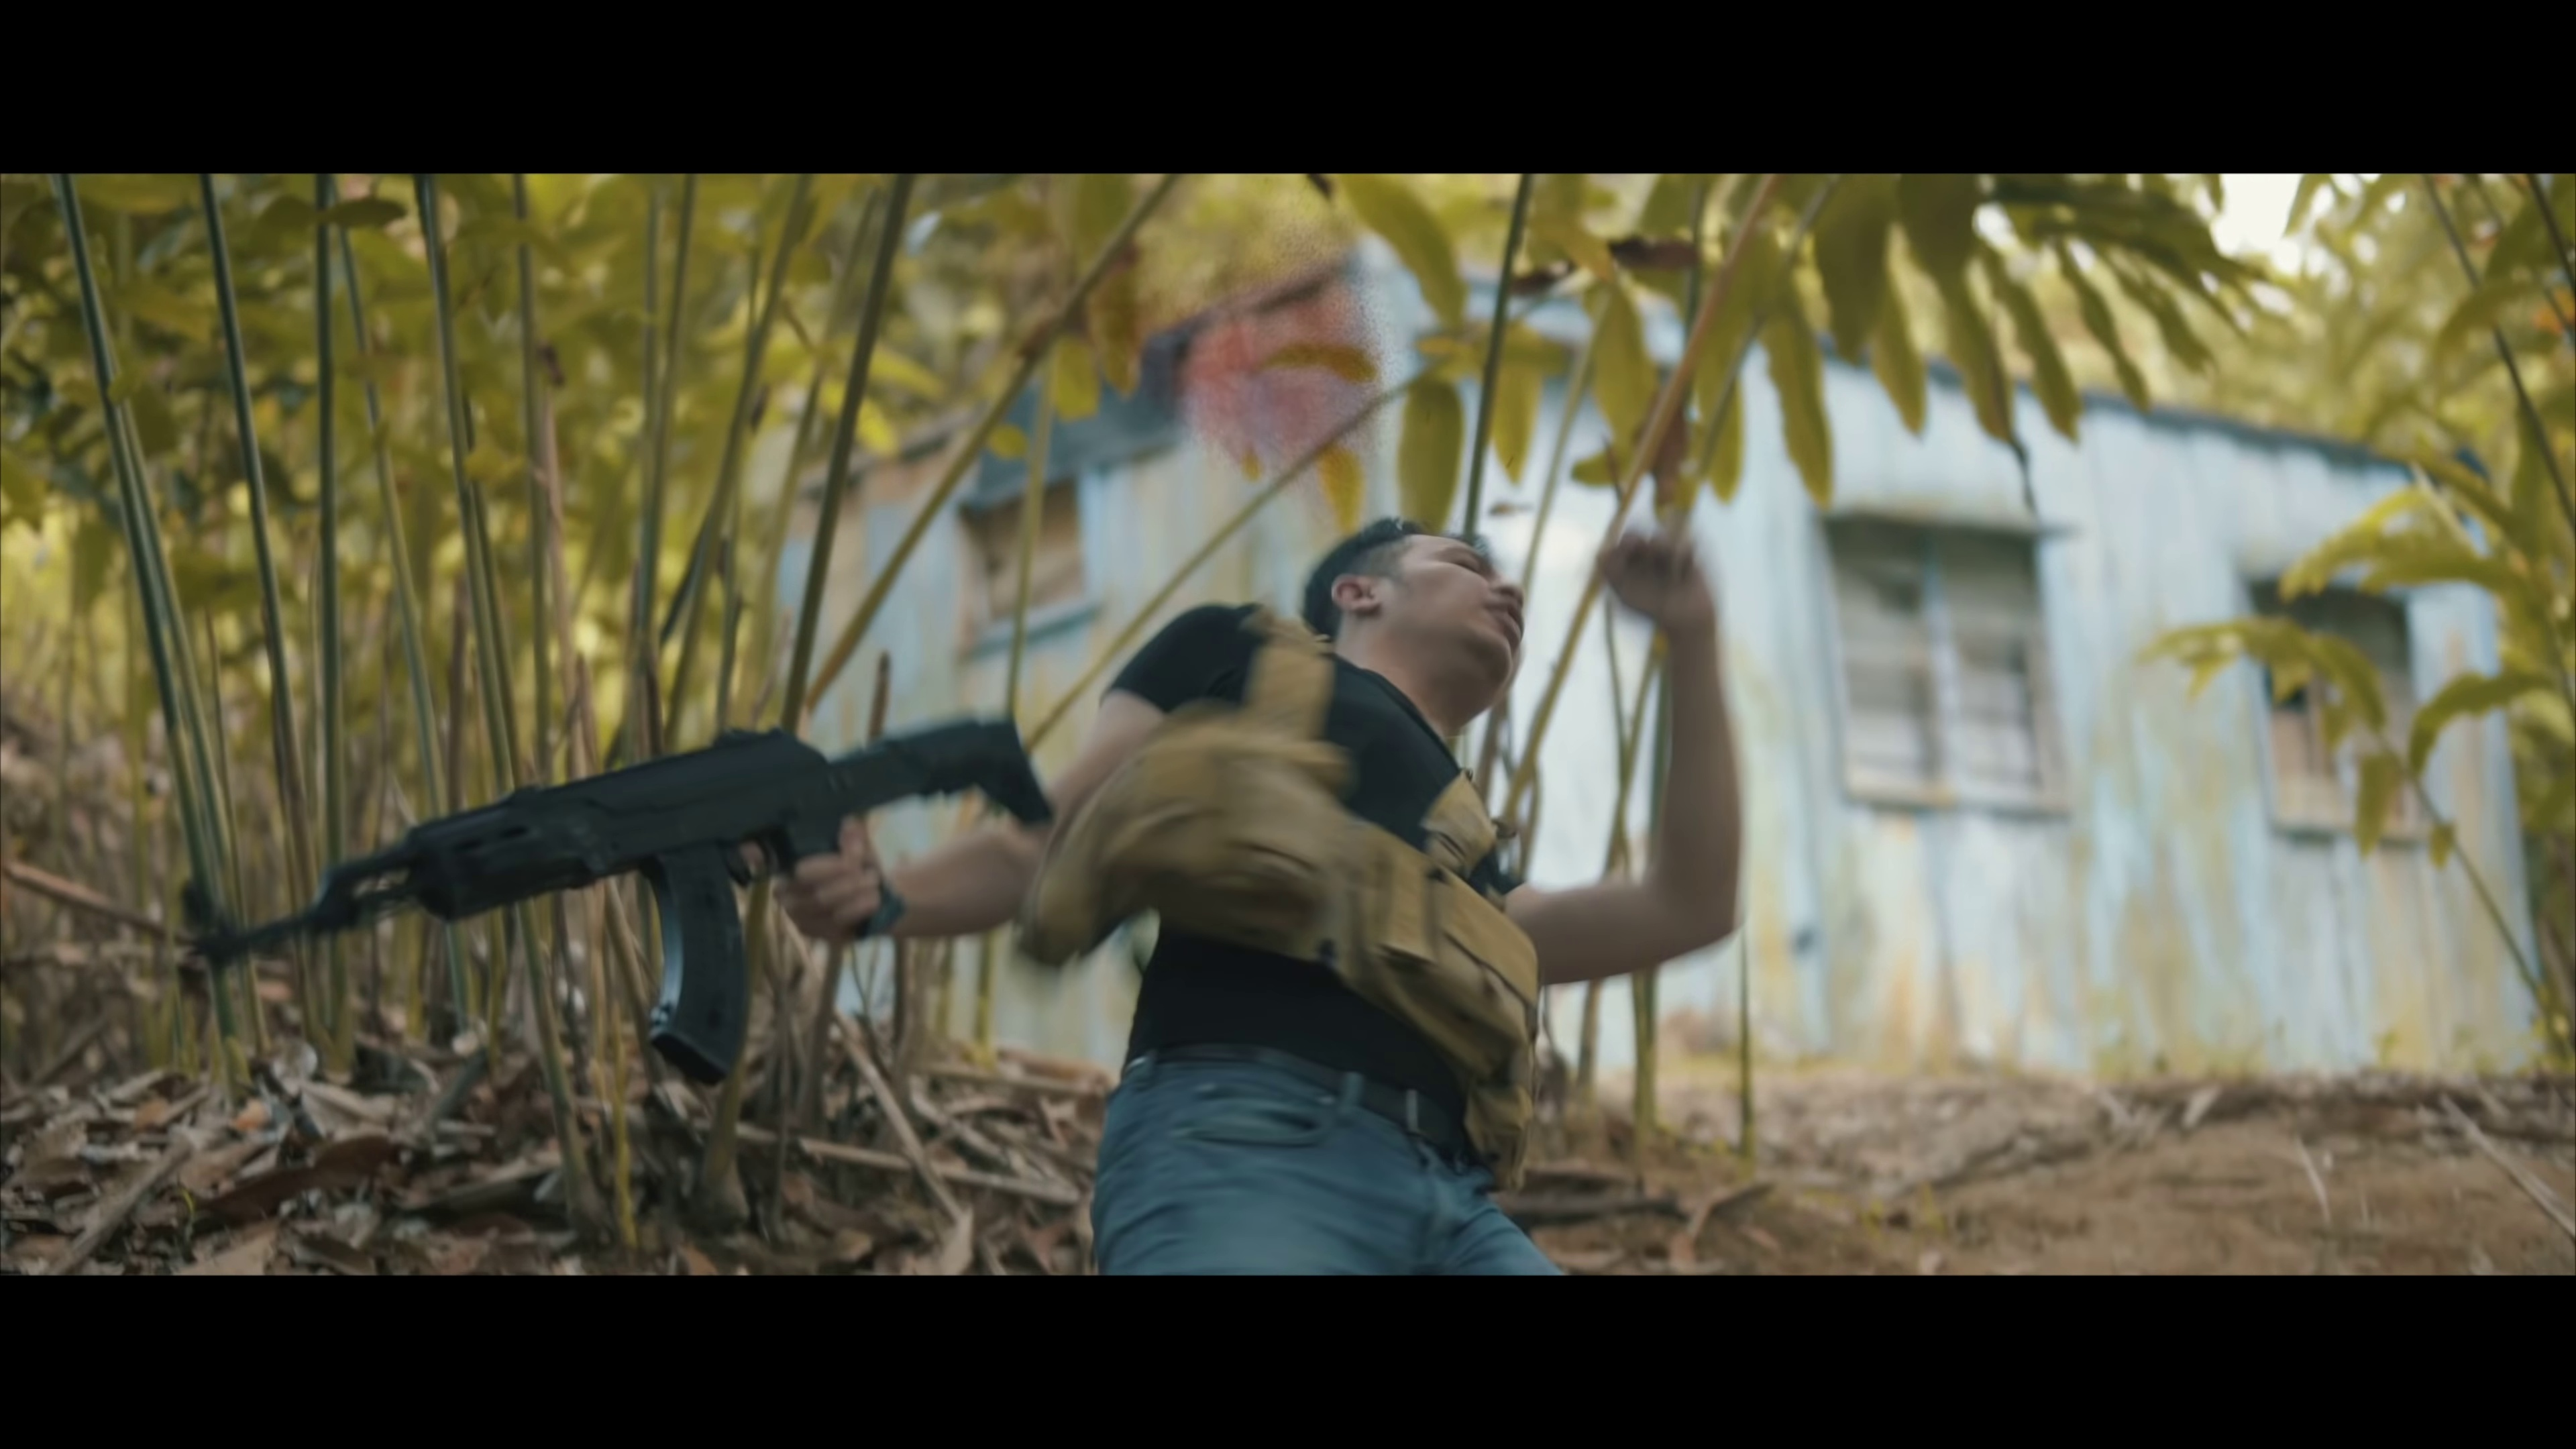gun: (175, 692, 1088, 1093)
p_w_gun: (180, 510, 1748, 1276)
